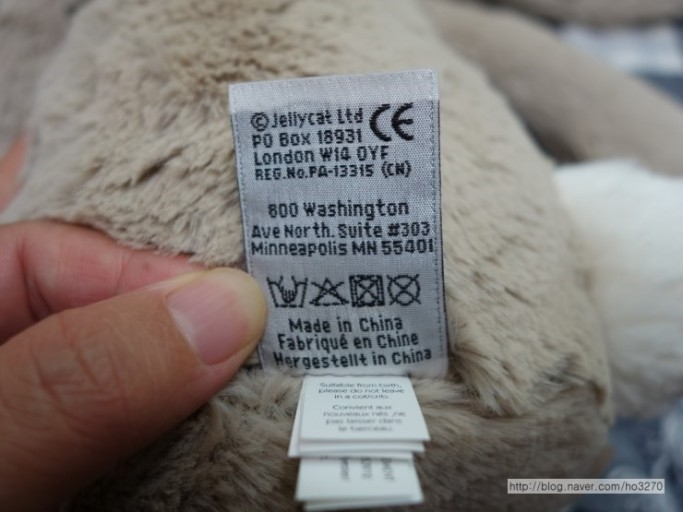ER_hand_wash: (266, 271, 309, 312)
ER_no_bleach: (311, 273, 348, 309)
ER_no_dry_clean: (388, 273, 423, 308)
ER_no_tumble_dry: (348, 270, 386, 309)
